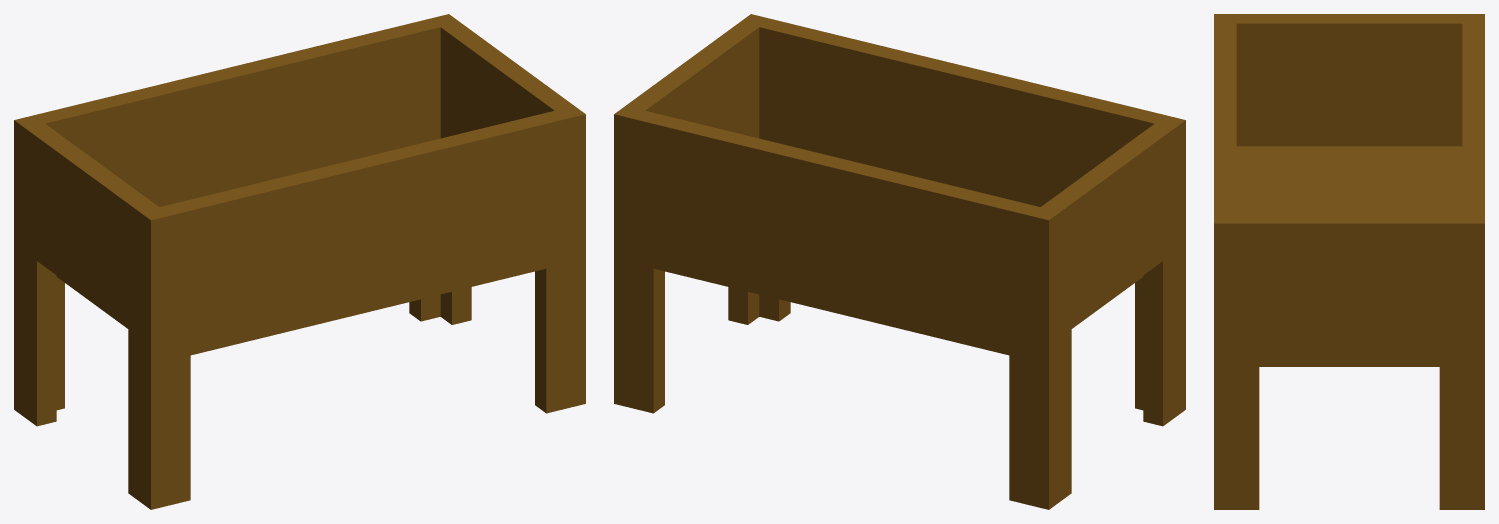
The model's file is CASA DO BURI-1.obj.
3 views of the same model, side by side, from view 1: azimuth 30°, elevation 25°; view 2: azimuth 150°, elevation 25°; view 3: azimuth 270°, elevation 25° (orthographic).
Size of the model in its own units: 2.2 by 1.4 by 1.2.
Materials: 1 (1 with a texture image).
